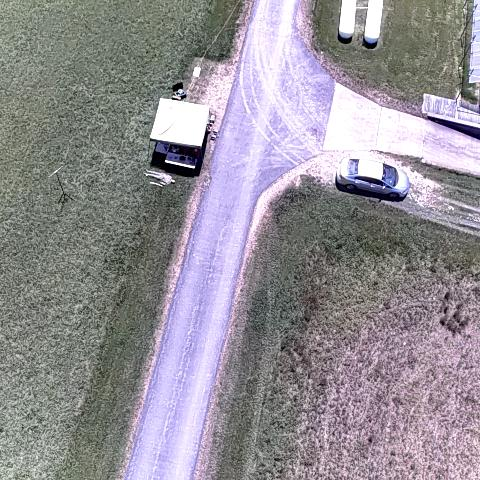person: (144, 168, 175, 185)
